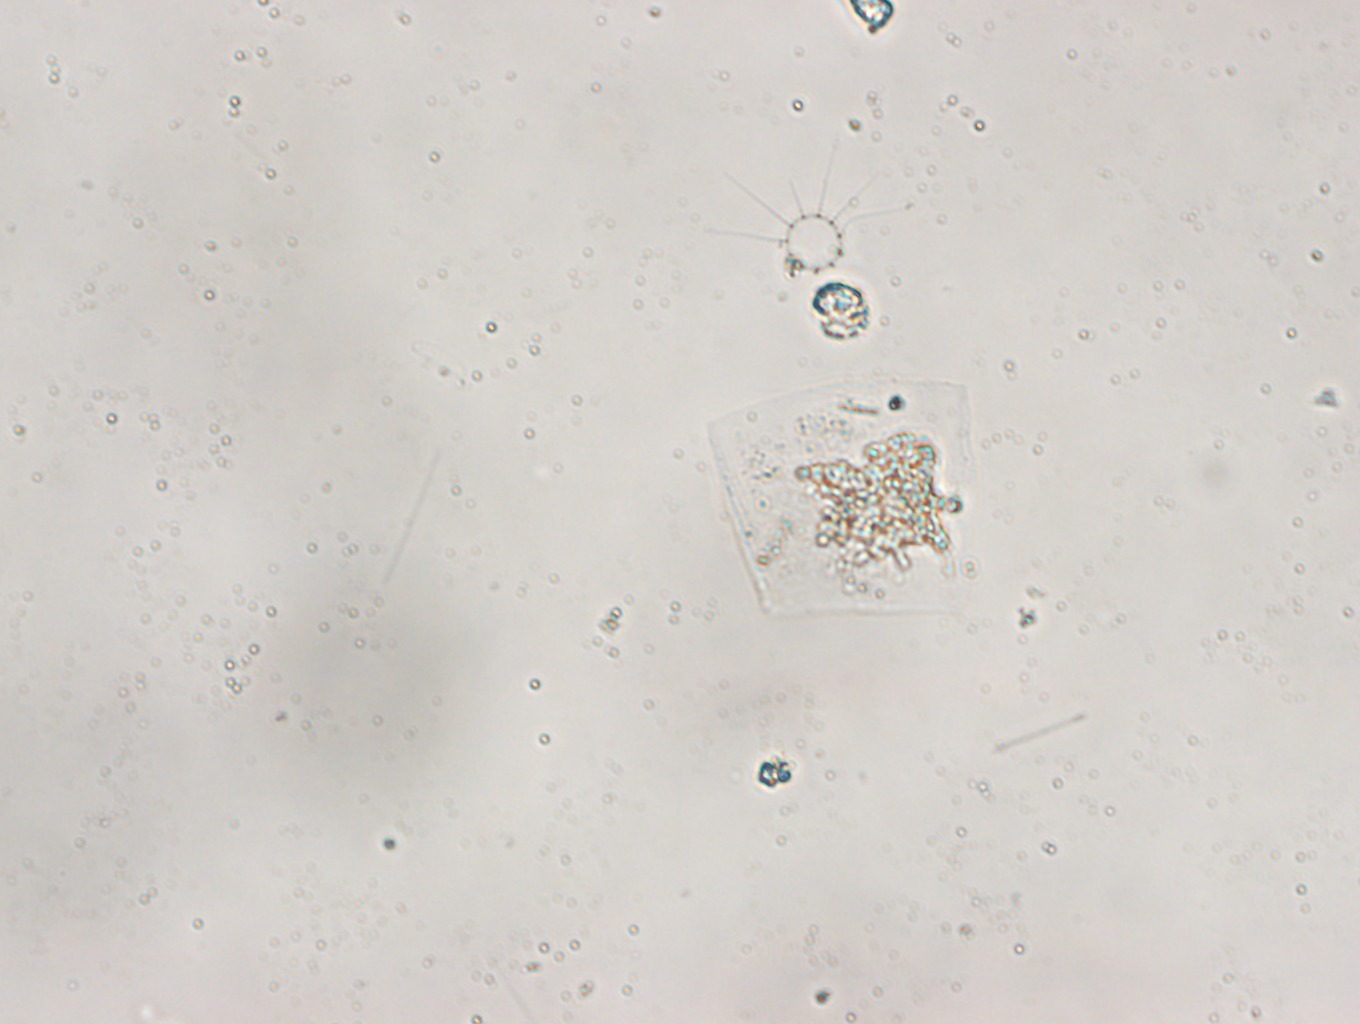bacteriastrum: (707, 153, 916, 275)
helicotheca: (703, 373, 978, 618)
